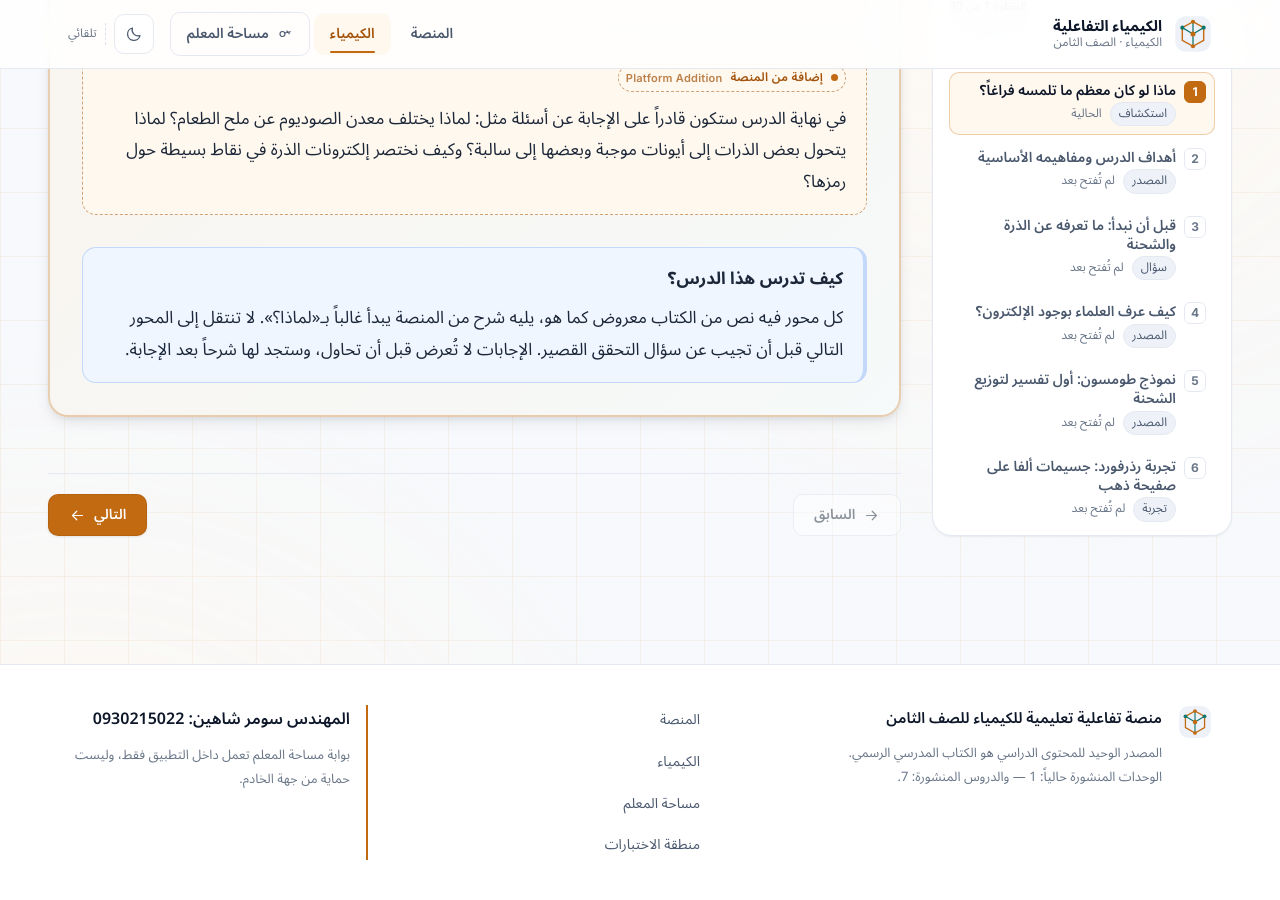
Test: lesson layout — identity and progress in the rail › updates rail progress and visited state as steps are opened
The image size is (1280, 900).
(page scrolled)
Click the button "التالي".
click(98, 515)  # box [48, 494, 147, 536]
(page scrolled)
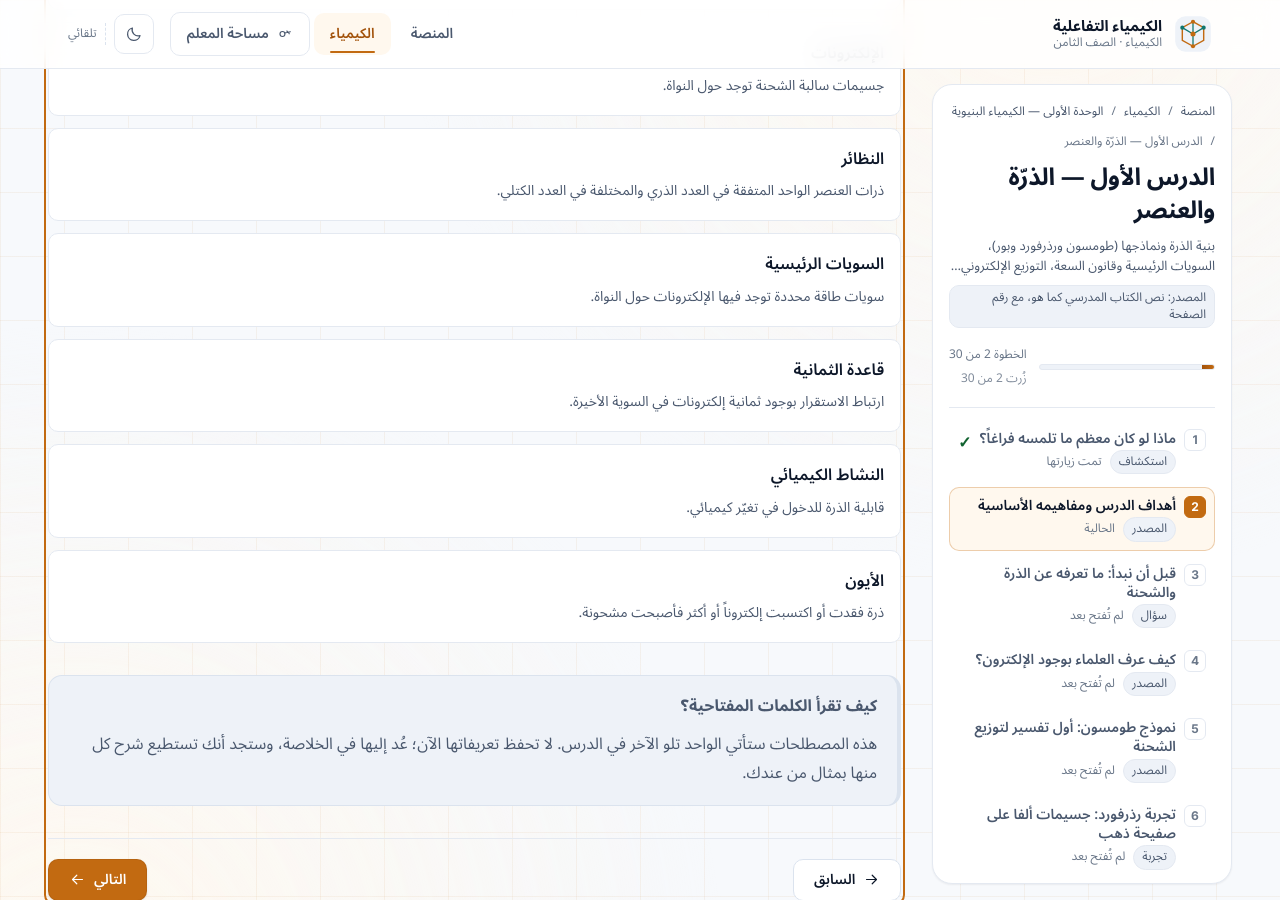
Expected: the text "تمت زيارتها" is shown, [1047, 451, 1102, 473]
Expected: the text "زُرت 2 من 30" is shown, [961, 366, 1027, 392]
